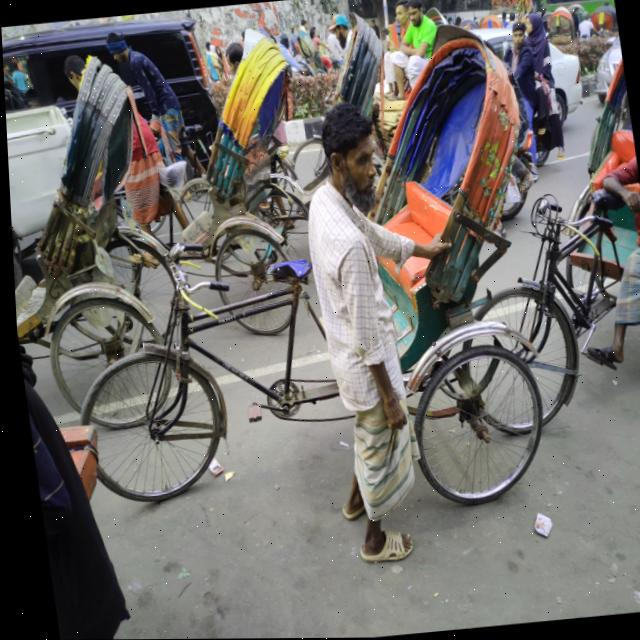rikshaw: (61, 21, 563, 533), (1, 29, 233, 457), (79, 19, 343, 304)
